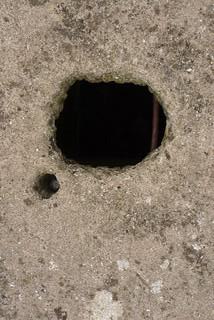Exposed reinforcement: (150, 95, 160, 151)
Spalling: (53, 77, 169, 169), (33, 172, 61, 200)
